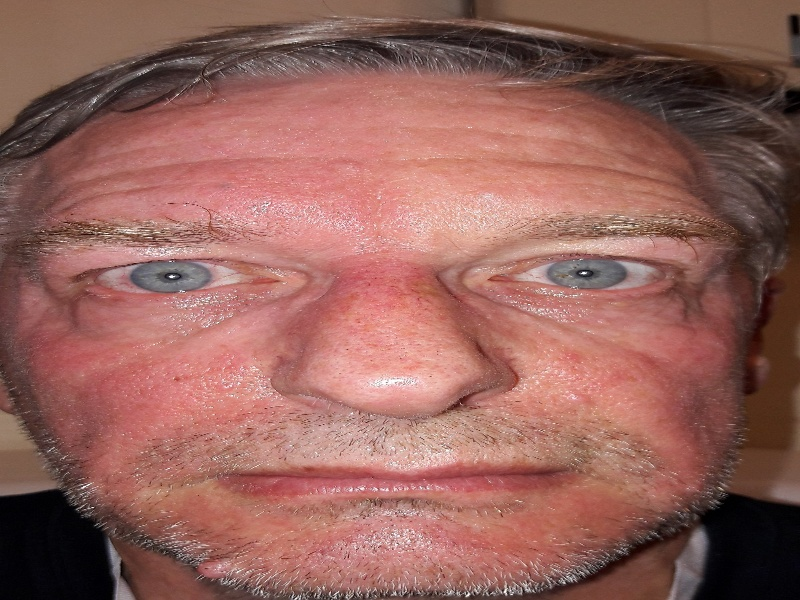face: (44, 143, 725, 539)
